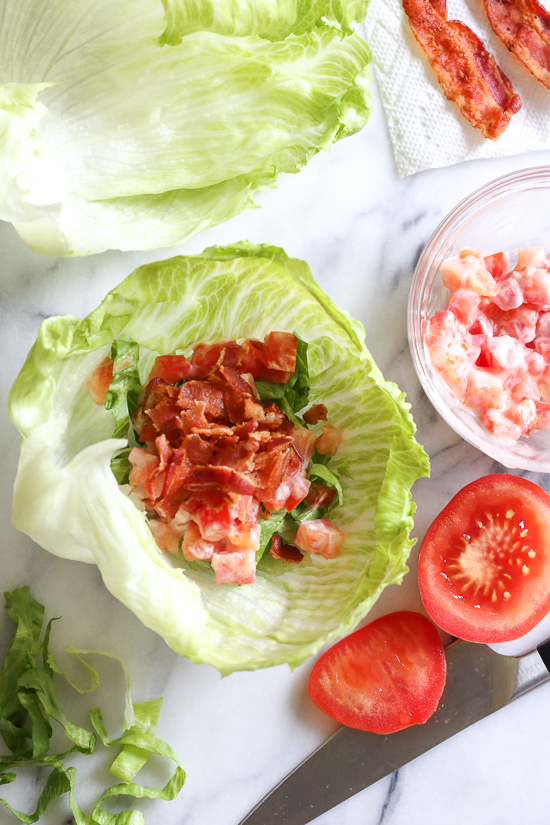chopped lettuce: (41, 279, 399, 661), (20, 1, 333, 265)
